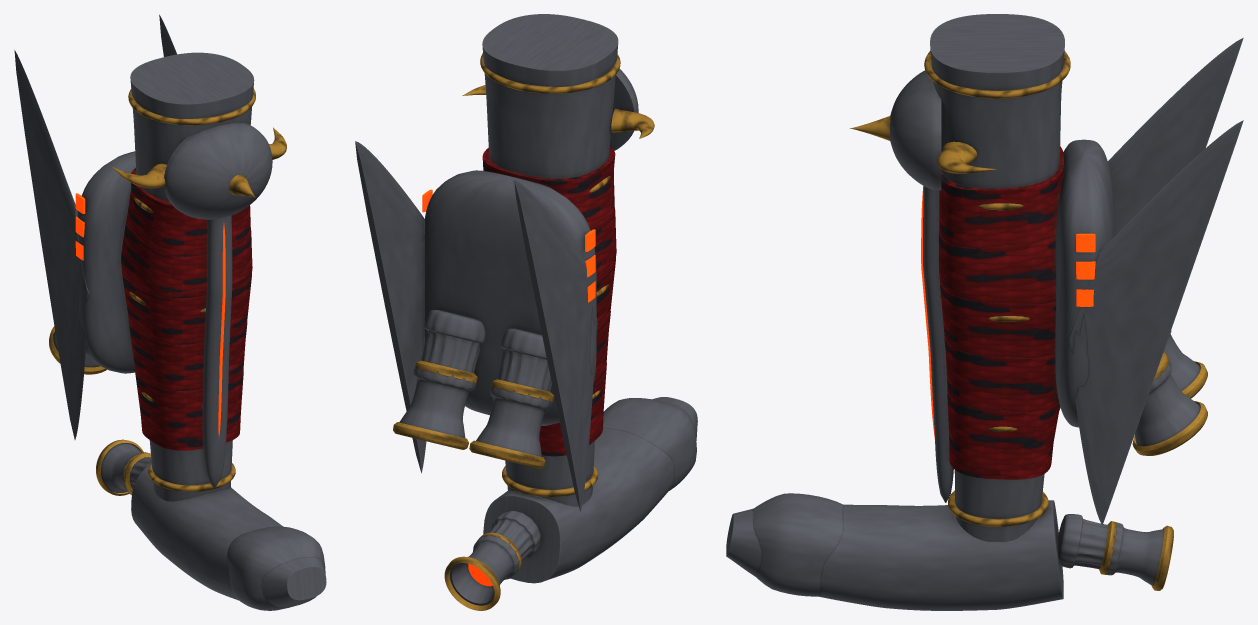
Rendered from greaves_L_hd.glb.
3 renders of one model, left to right at view 1: azimuth 30°, elevation 25°; view 2: azimuth 150°, elevation 25°; view 3: azimuth 270°, elevation 25°, orthographic. The views are drawn at different scales.
Visible parts, largest first — view 1: Weapon; view 2: Weapon; view 3: Weapon.
Part boxes in pixels (x1,y1,x2,y2): Weapon: [14, 14, 326, 610]; Weapon: [355, 14, 697, 610]; Weapon: [726, 14, 1243, 610].
Bounding box in the file's own units: 0.232 × 0.657 × 0.5513.
1 material, 1 textured.
